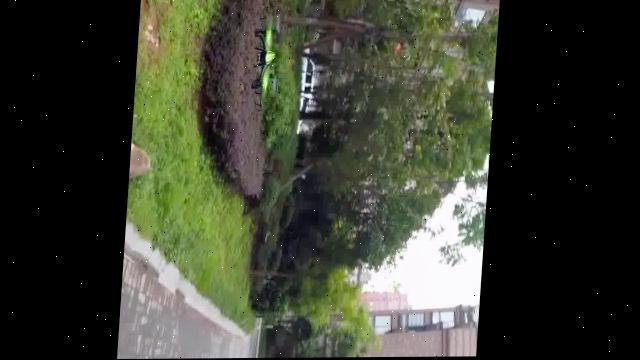drone: (250, 18, 283, 109)
